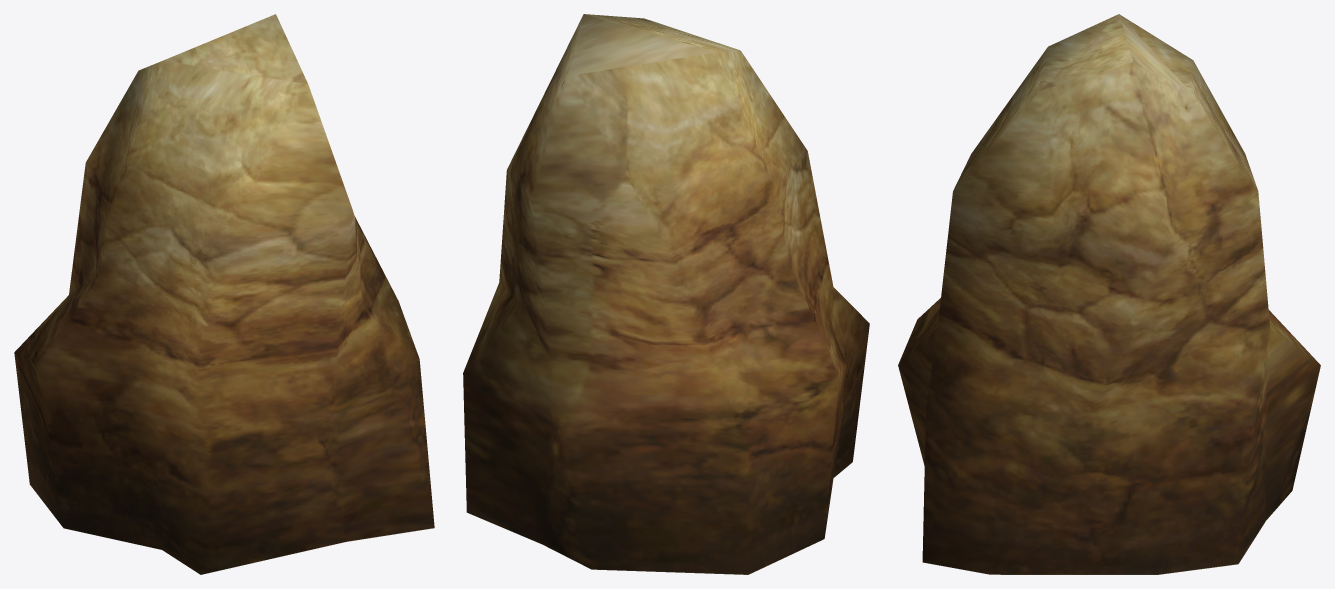
Rendered from obj_masaprro02.glb.
The picture shows the model from 3 angles, left to right: view 1: azimuth 30°, elevation 25°; view 2: azimuth 150°, elevation 25°; view 3: azimuth 270°, elevation 25°; orthographic projection. The views are drawn at different scales.
Parts seen in each view (by area): view 1: part_0; view 2: part_0; view 3: part_0.
Boxes of the visible parts, bbox=[...] form: part_0: bbox=[14, 14, 434, 574]; part_0: bbox=[463, 14, 869, 574]; part_0: bbox=[898, 14, 1320, 574].
Size of the model in its own units: 1.88 by 2.38 by 1.94.
Materials: 1 (1 with a texture image).
